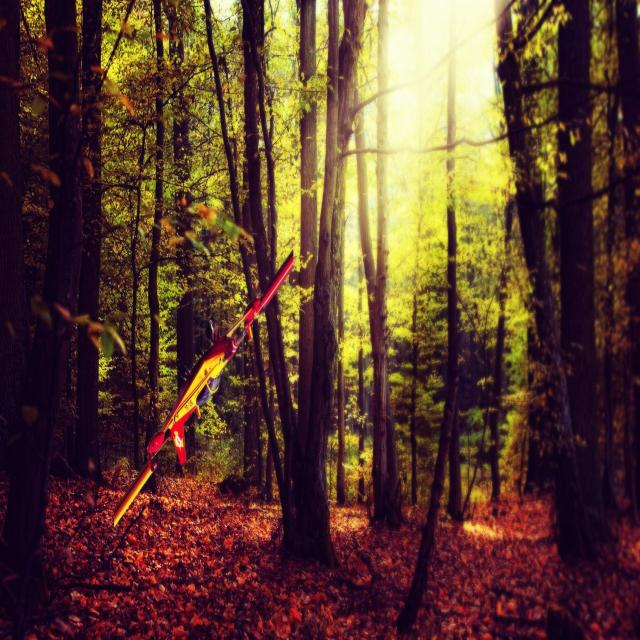airplane: (112, 248, 294, 527)
